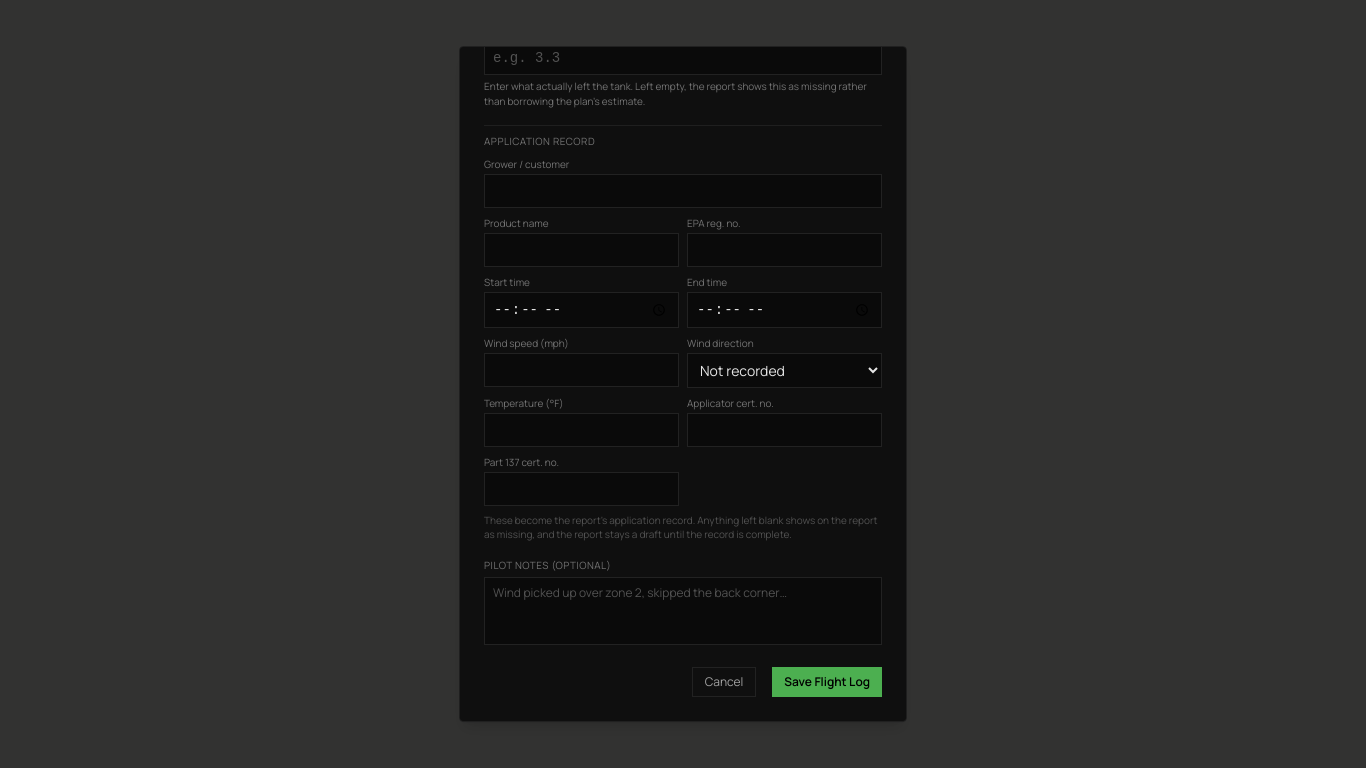
Test: when nothing persists, nothing claims to › offline is detected up front — no write attempted, failure said plainly
(page scrolled)
Click the button "Save Flight Log" at [827, 682], box x1=772 y1=667 x2=882 y2=697
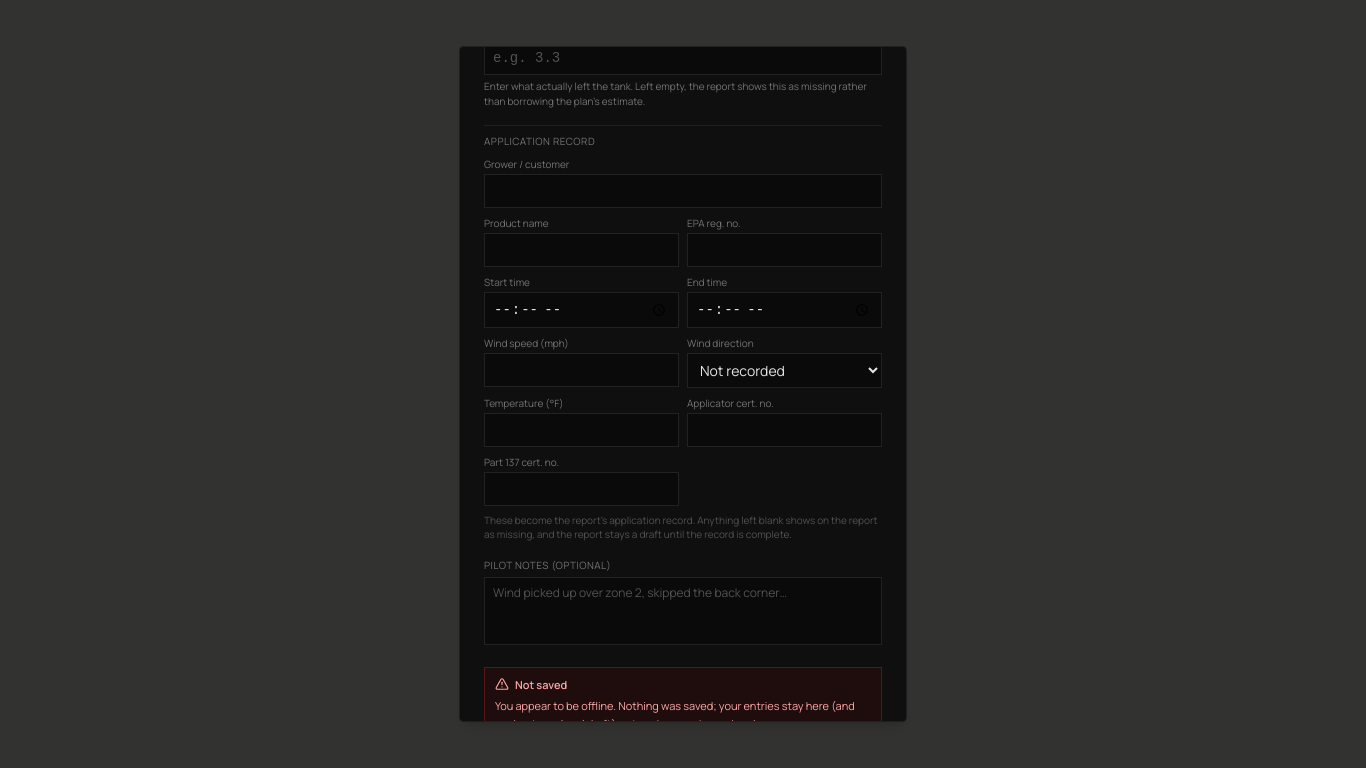
Expected: the text "appear to be offline" is shown, x1=495 y1=698 x2=855 y2=722
